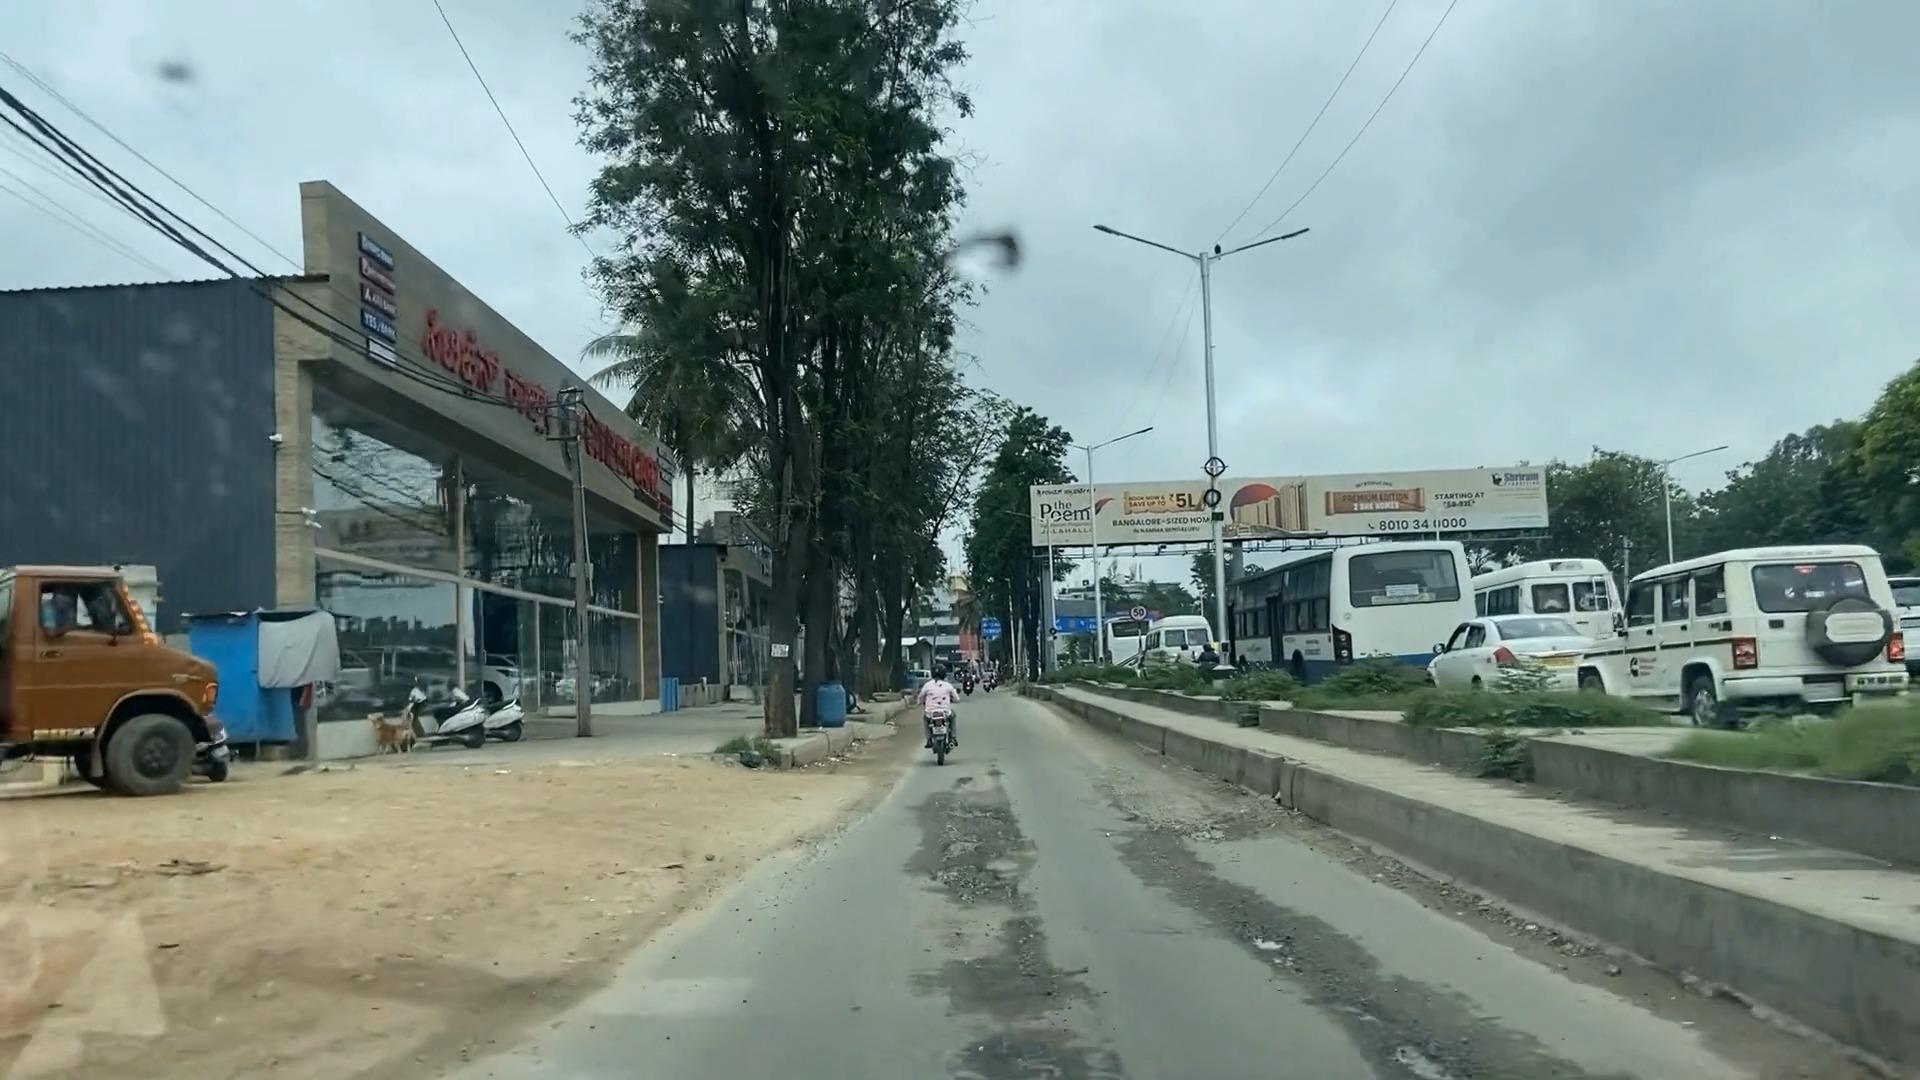RoadDamages: (1316, 984, 1590, 1080), (1110, 827, 1304, 959), (923, 960, 1106, 1080), (923, 787, 1030, 938)
